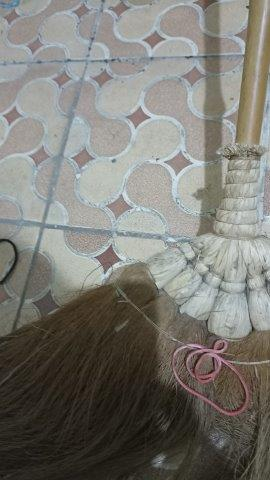karet: (172, 340, 248, 416)
